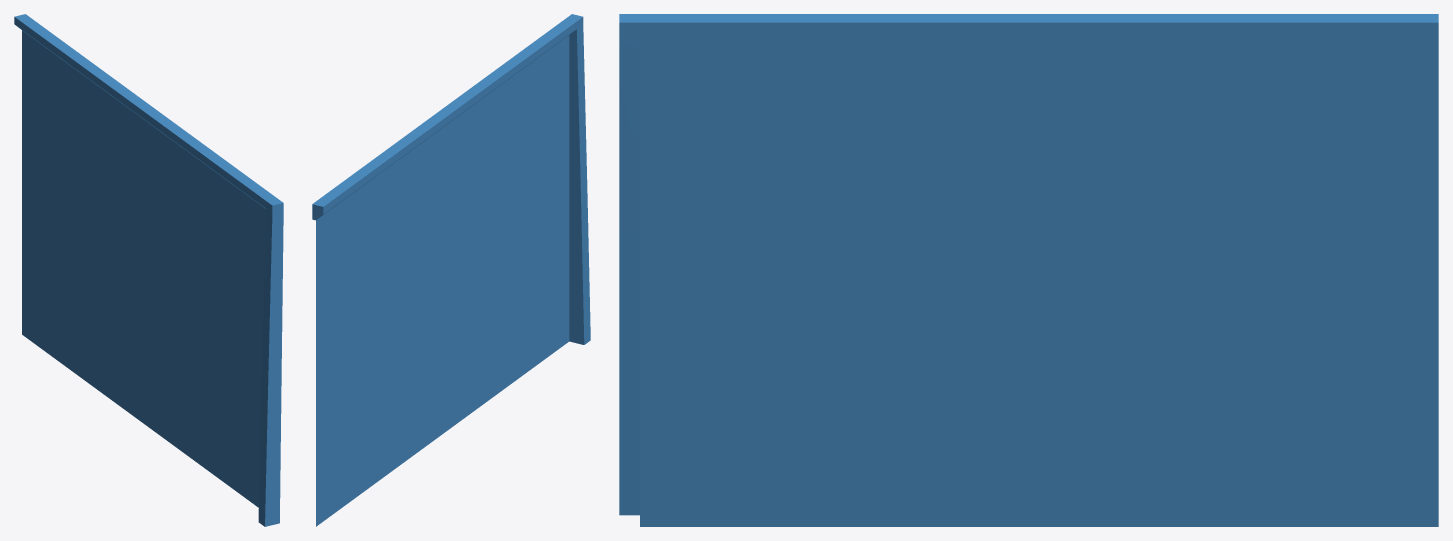
Rendered from Pod_Wall_Mid_B.fbx.
The picture shows the model from 3 angles, left to right: view 1: azimuth 30°, elevation 25°; view 2: azimuth 150°, elevation 25°; view 3: azimuth 270°, elevation 25°; orthographic projection. The views are drawn at different scales.
Parts seen in each view (by area): view 1: Pod_Wall_Mid_B; view 2: Pod_Wall_Mid_B; view 3: Pod_Wall_Mid_B.
Boxes of the visible parts, bbox=[...] form: Pod_Wall_Mid_B: bbox=[14, 14, 283, 526]; Pod_Wall_Mid_B: bbox=[312, 14, 590, 526]; Pod_Wall_Mid_B: bbox=[619, 14, 1438, 526].
Bounding box in the file's own units: 37.5 × 615 × 900.
